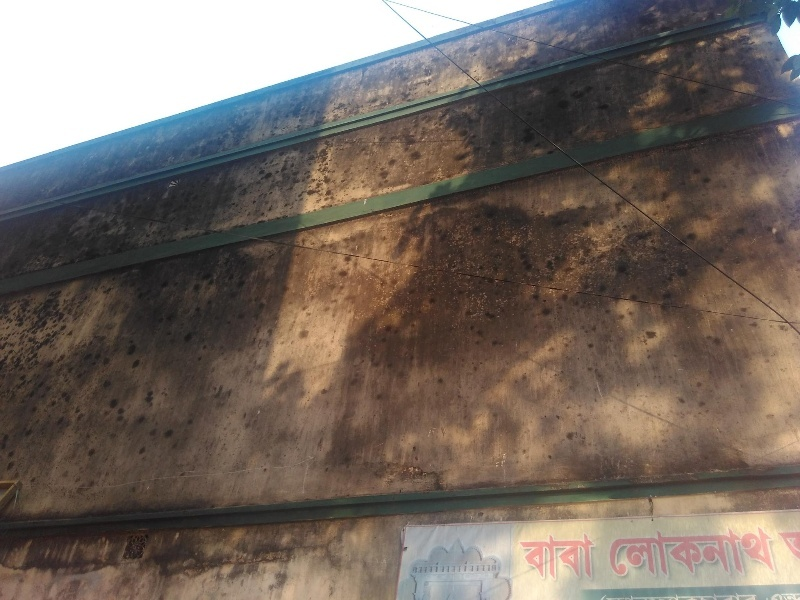text: (609, 526, 624, 580), (625, 526, 640, 580), (641, 526, 656, 580), (657, 526, 672, 580), (673, 526, 688, 580), (689, 526, 704, 580), (705, 526, 720, 580), (721, 526, 736, 580), (737, 526, 752, 580), (753, 526, 768, 580), (529, 534, 544, 580), (545, 534, 560, 580), (561, 534, 576, 580), (577, 534, 592, 580), (769, 526, 779, 580), (785, 530, 800, 563), (520, 534, 528, 580), (593, 534, 598, 580), (779, 530, 784, 563), (593, 589, 608, 599), (609, 589, 624, 599), (625, 589, 640, 599), (641, 589, 656, 599), (657, 589, 672, 599), (673, 589, 688, 599), (689, 589, 704, 599), (705, 589, 720, 599), (721, 589, 736, 599), (737, 589, 752, 599), (753, 589, 768, 599), (769, 589, 784, 599), (785, 589, 800, 599), (586, 589, 592, 599)
